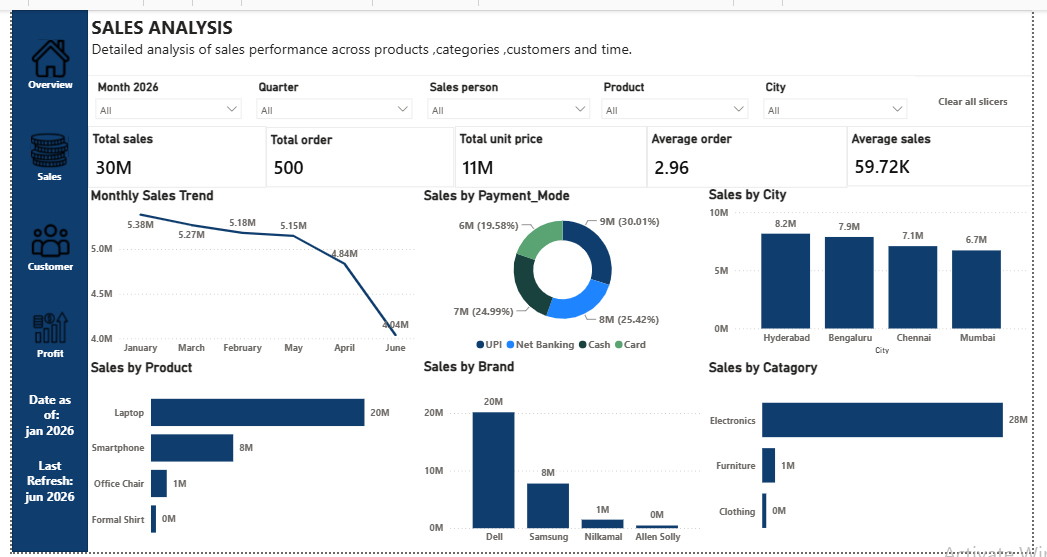

Layout of this report page (visuals, bound fields, positions):
{"tool":"powerbi","page":{"name":"Sales Analysis","canvas":[1355,720],"ordinal":1},"visuals":[{"type":"shape","box":[0,0,101,720],"z":0,"group":"g1"},{"type":"donutChart","title":"Sales by Payment_Mode","fields":{"Category":["SalesData.Payment_Mode"],"Y":["Sum(SalesData.Sales)"]},"box":[541.5,235.6,379,228.3],"z":0},{"type":"actionButton","box":[0,143.4,99.5,102.4],"z":1000,"group":"g1"},{"type":"lineChart","title":"Monthly Sales Trend","fields":{"Category":["SalesData.Month"],"Y":["Sum(SalesData.Sales)"]},"box":[99.5,235.6,442,231.2],"z":1000},{"type":"actionButton","box":[1.5,379,99.5,103.9],"z":2000,"group":"g1"},{"type":"clusteredBarChart","title":"Sales by Catagory","fields":{"Category":["SalesData.Category"],"Y":["Sum(SalesData.Sales)"]},"box":[920.5,463.9,434.6,256.1],"z":2000},{"type":"clusteredColumnChart","title":"Sales by City","fields":{"Category":["SalesData.City"],"Y":["Sum(SalesData.Sales)"]},"box":[920.5,234.1,434.6,228.3],"z":3000},{"type":"actionButton","box":[1.5,267.8,99.5,93.7],"z":3000,"group":"g1"},{"type":"actionButton","box":[1.5,19,99.5,108.3],"z":4000,"group":"g1"},{"type":"clusteredBarChart","title":"Sales by Product","fields":{"Category":["SalesData.Product"],"Y":["Sum(SalesData.Sales)"]},"box":[99.5,463.9,442,256.1],"z":4000},{"type":"clusteredColumnChart","title":"Sales by Brand","fields":{"Category":["SalesData.Brand"],"Y":["Sum(SalesData.Sales)"]},"box":[541.5,462.4,379,256.1],"z":5000},{"type":"textbox","box":[1.5,500.5,98,87.8],"z":5000,"group":"g1"},{"type":"textbox","box":[99.5,0,1255.6,87.8],"z":6000},{"type":"textbox","box":[1.5,588.3,98,87.8],"z":6000,"group":"g1"},{"type":"slicer","fields":{"Values":["SalesData.Month"]},"box":[101,87.8,213.7,67.3],"z":7000},{"type":"slicer","fields":{"Values":["SalesData.Quarter"]},"box":[314.6,87.8,226.8,67.3],"z":8000},{"type":"slicer","fields":{"Values":["SalesData.Salesperson"]},"box":[541.5,87.8,235.6,67.3],"z":9000},{"type":"slicer","fields":{"Values":["SalesData.Product"]},"box":[772.7,87.8,215.1,67.3],"z":10000},{"type":"slicer","fields":{"Values":["SalesData.City"]},"box":[987.8,87.8,210.7,67.3],"z":11000},{"type":"cardVisual","title":"Total sales","fields":{"Data":["Sum(Sheet.Sales)"]},"box":[101,153.7,237.1,82],"z":12000},{"type":"cardVisual","title":"Total order","fields":{"Data":["SalesData.Total Order"]},"box":[338,155.1,250.2,80.5],"z":13000},{"type":"cardVisual","title":"Total unit price","fields":{"Data":["Sum(SalesData.Unit_Price)"]},"box":[588.3,153.7,254.6,82],"z":14000},{"type":"cardVisual","title":"Average order","fields":{"Data":["SalesData.Avg Order"]},"box":[842.9,153.7,266.3,82],"z":15000},{"type":"cardVisual","title":"Average sales","fields":{"Data":["SalesData.Avg Salse"]},"box":[1109.3,153.7,245.9,80.5],"z":16000},{"type":"actionButton","box":[1198.5,87.8,156.6,67.3],"z":17000},{"type":"group","id":"g1","title":"Group 2","box":[0,0,101,720],"z":20002}]}

Visuals, with their boxes on the page's 1355x720 design canvas (x1, y1, x2, y2). These are canvas units, not pixel positions in the 1047x557 screenshot, which may show the page scaled, cropped or inside an application window:
shape: BBox(0, 0, 101, 720)
"Sales by Payment_Mode" donutChart: BBox(542, 236, 920, 464)
actionButton: BBox(0, 143, 100, 246)
"Monthly Sales Trend" lineChart: BBox(100, 236, 542, 467)
actionButton: BBox(2, 379, 101, 483)
"Sales by Catagory" clusteredBarChart: BBox(920, 464, 1355, 720)
"Sales by City" clusteredColumnChart: BBox(920, 234, 1355, 462)
actionButton: BBox(2, 268, 101, 362)
actionButton: BBox(2, 19, 101, 127)
"Sales by Product" clusteredBarChart: BBox(100, 464, 542, 720)
"Sales by Brand" clusteredColumnChart: BBox(542, 462, 920, 718)
textbox: BBox(2, 500, 100, 588)
textbox: BBox(100, 0, 1355, 88)
textbox: BBox(2, 588, 100, 676)
slicer - SalesData.Month: BBox(101, 88, 315, 155)
slicer - SalesData.Quarter: BBox(315, 88, 541, 155)
slicer - SalesData.Salesperson: BBox(542, 88, 777, 155)
slicer - SalesData.Product: BBox(773, 88, 988, 155)
slicer - SalesData.City: BBox(988, 88, 1198, 155)
"Total sales" cardVisual: BBox(101, 154, 338, 236)
"Total order" cardVisual: BBox(338, 155, 588, 236)
"Total unit price" cardVisual: BBox(588, 154, 843, 236)
"Average order" cardVisual: BBox(843, 154, 1109, 236)
"Average sales" cardVisual: BBox(1109, 154, 1355, 234)
actionButton: BBox(1198, 88, 1355, 155)
"Group 2" group: BBox(0, 0, 101, 720)
